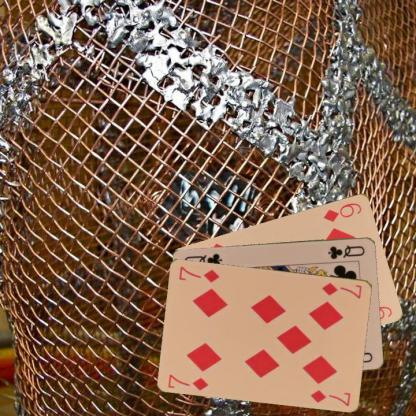6d: (321, 200, 363, 223)
7d: (165, 371, 210, 391), (320, 280, 364, 300)
Qc: (326, 242, 366, 260)
